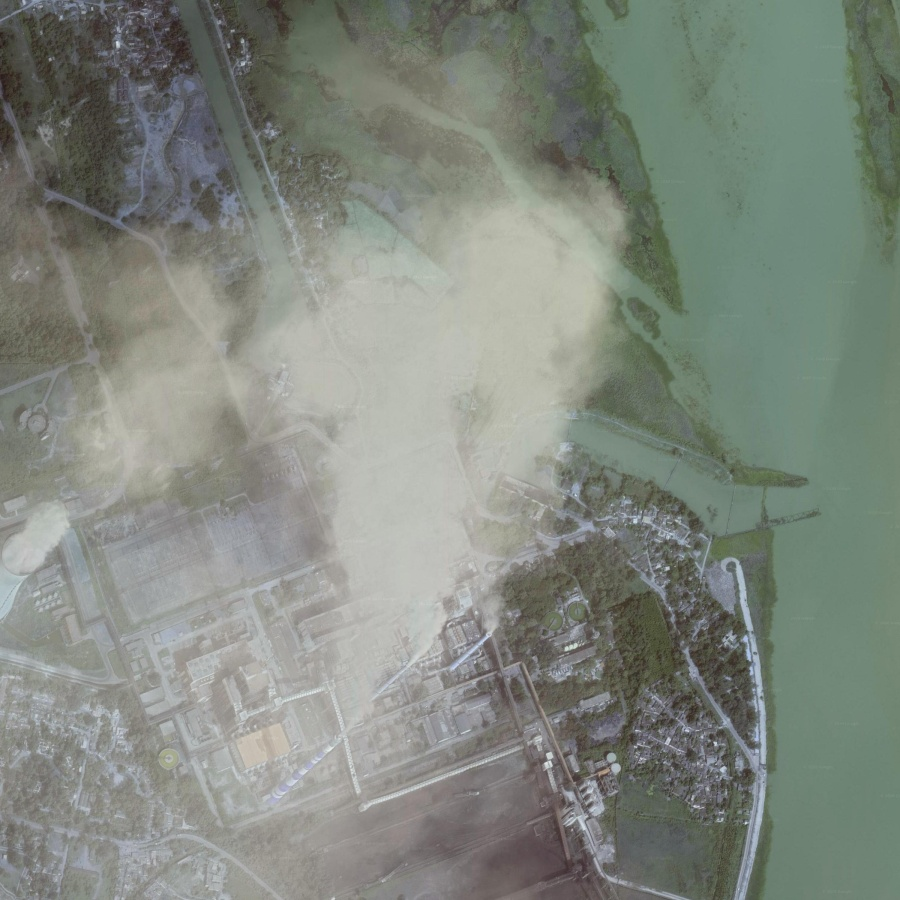PowerPlant: (229, 554, 519, 835)
